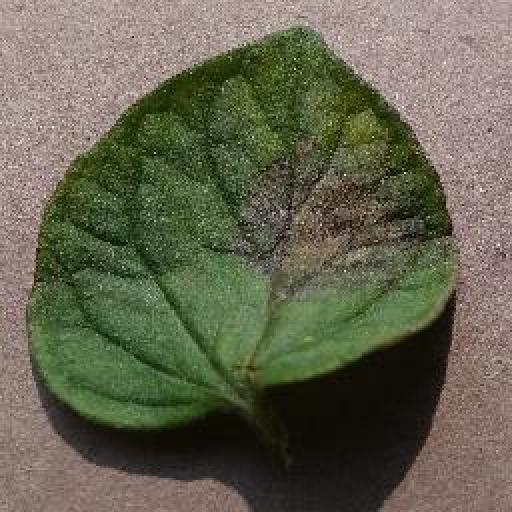Late Blight: (25, 28, 460, 432)
